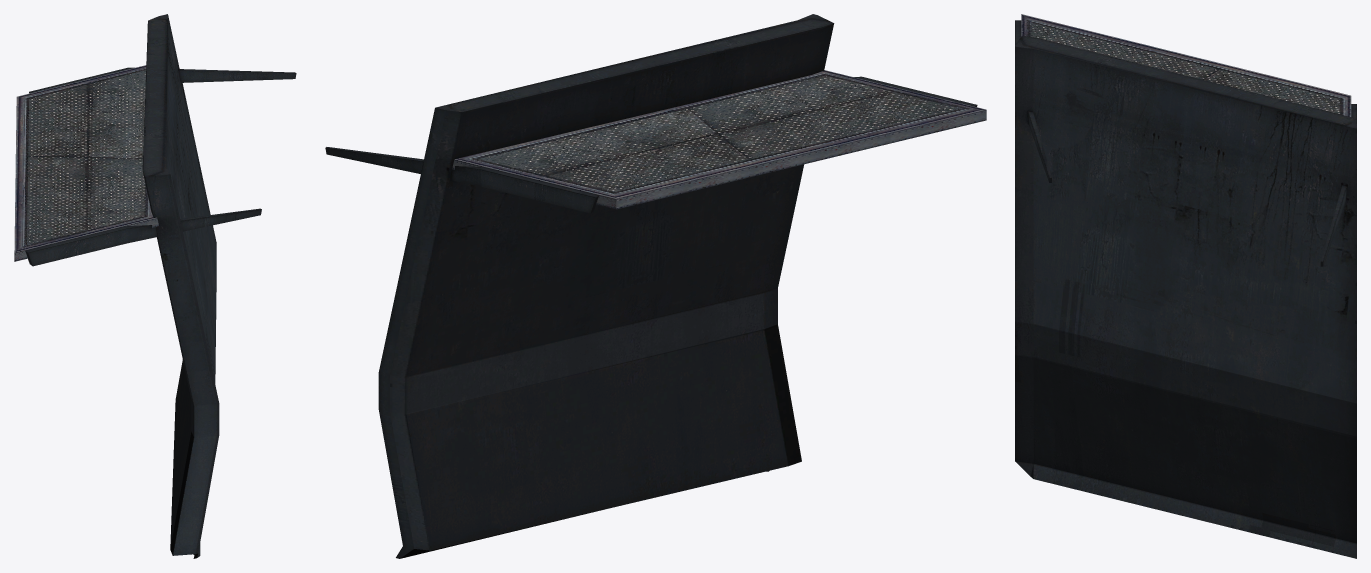
Rendered from combine_barricade_tall04a.glb.
3 renders of one model, left to right at view 1: azimuth 30°, elevation 25°; view 2: azimuth 150°, elevation 25°; view 3: azimuth 270°, elevation 25°, orthographic. The views are drawn at different scales.
Visible parts, largest first — view 1: combine_barricade_tall04a; view 2: combine_barricade_tall04a; view 3: combine_barricade_tall04a.
Part boxes in pixels (<box>): combine_barricade_tall04a: <box>14,14,296,558</box>; combine_barricade_tall04a: <box>325,14,986,558</box>; combine_barricade_tall04a: <box>1015,14,1356,558</box>.
Bounding box in the file's own units: 3.64 × 3.25 × 2.44.
2 materials, 2 textured.
